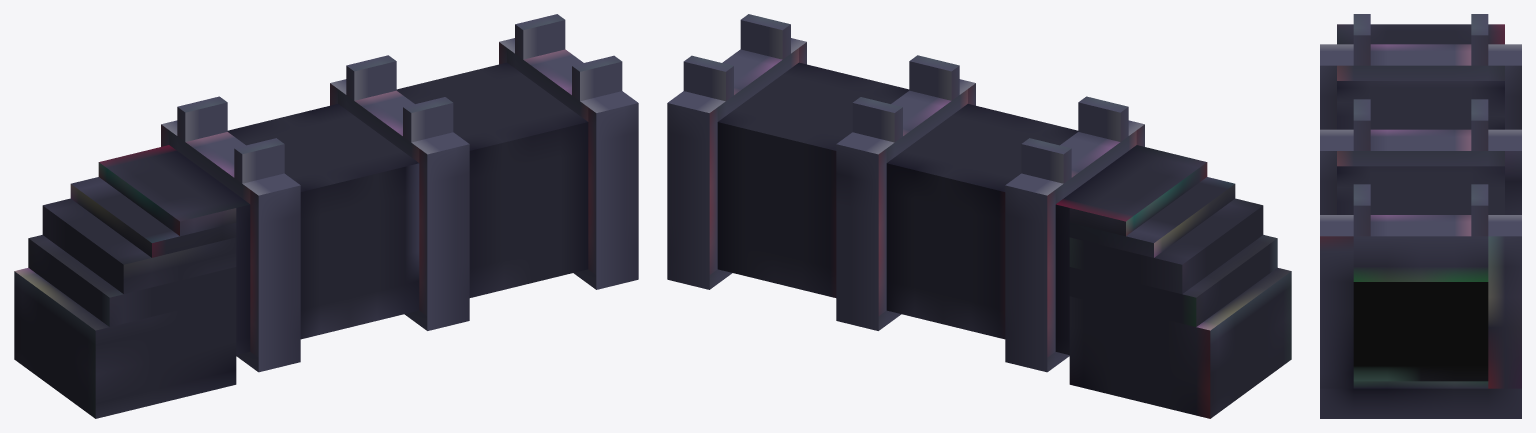
The model's file is Vent_Module_A_00.fbx.
3 renders of one model, left to right at view 1: azimuth 30°, elevation 25°; view 2: azimuth 150°, elevation 25°; view 3: azimuth 270°, elevation 25°, orthographic. The views are drawn at different scales.
Parts seen in each view (by area): view 1: Vent_Module_A_00; view 2: Vent_Module_A_00; view 3: Vent_Module_A_00.
Boxes of the visible parts, x1=… form: Vent_Module_A_00: x1=14, y1=14, x2=638, y2=418; Vent_Module_A_00: x1=667, y1=14, x2=1291, y2=418; Vent_Module_A_00: x1=1320, y1=14, x2=1521, y2=418.
Bounding box in the file's own units: 190 × 75 × 60.
